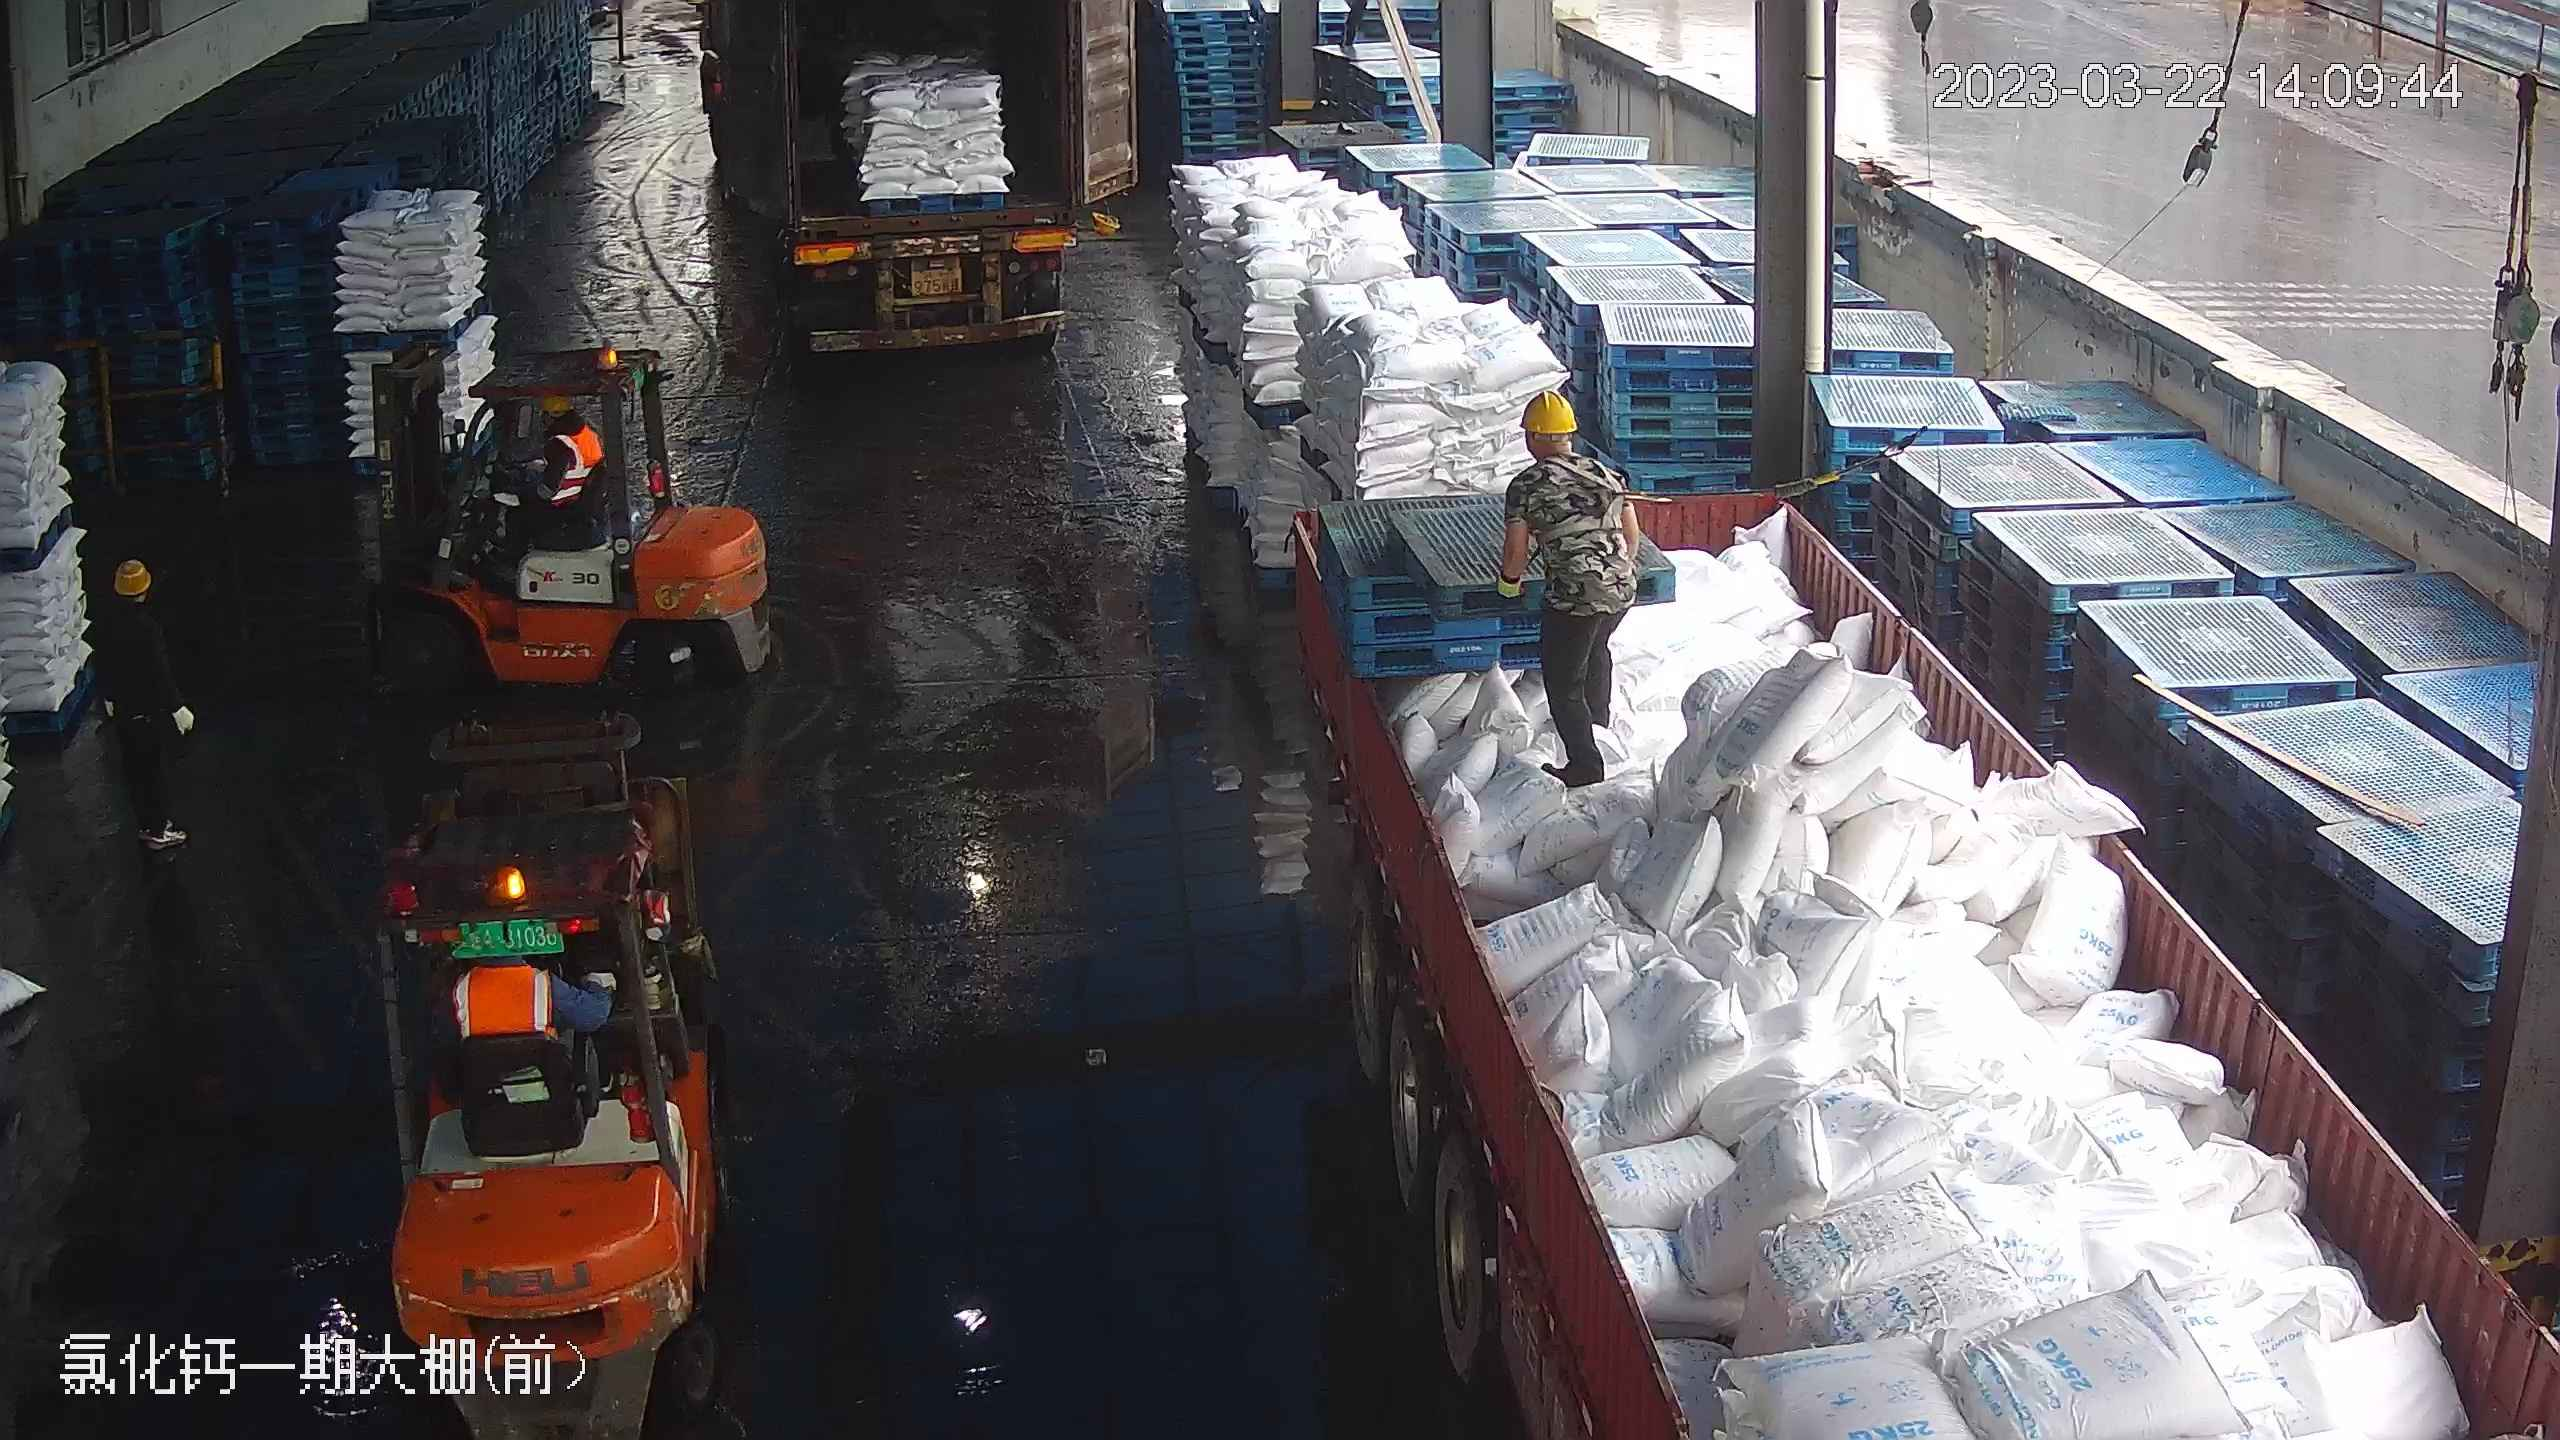belt: (1541, 451, 1644, 551)
head: (1504, 385, 1627, 517), (99, 558, 172, 650), (531, 391, 598, 463)
helmet: (1517, 387, 1577, 435), (116, 558, 154, 594), (538, 392, 574, 417)
people: (1495, 390, 1640, 787), (98, 552, 196, 851), (474, 390, 603, 568)
truck: (1245, 445, 2546, 1435), (739, 1, 1110, 353)
